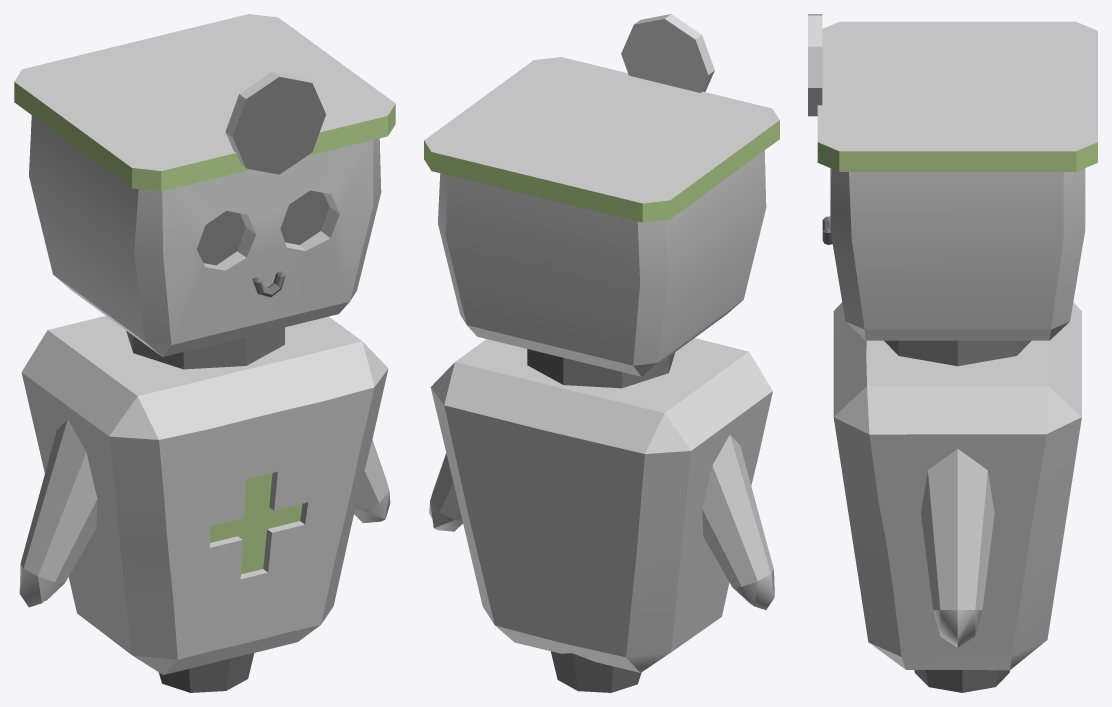
Rendered from SM_DoctorRobot.fbx.
3 renders of one model, left to right at view 1: azimuth 30°, elevation 25°; view 2: azimuth 150°, elevation 25°; view 3: azimuth 270°, elevation 25°, orthographic. The views are drawn at different scales.
Parts seen in each view (by area): view 1: doctor; view 2: doctor; view 3: doctor.
Part boxes in pixels (box(x1,y1,x2,y2)): doctor: box(14, 14, 395, 692); doctor: box(424, 14, 779, 692); doctor: box(808, 14, 1097, 692).
Bounding box in the file's own units: 136 × 229 × 91.34.
